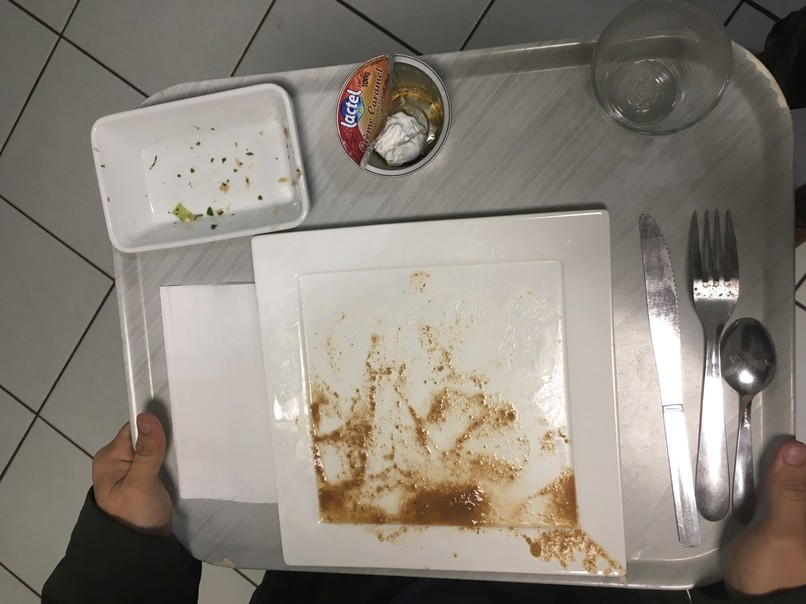cup: (601, 1, 739, 137)
cutlery: (630, 195, 701, 558), (688, 200, 736, 524), (718, 315, 778, 514)
trash: (154, 285, 287, 508), (327, 45, 454, 186)
